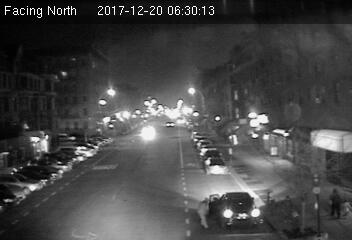car: (211, 191, 264, 227), (205, 156, 228, 176), (164, 120, 175, 127)
